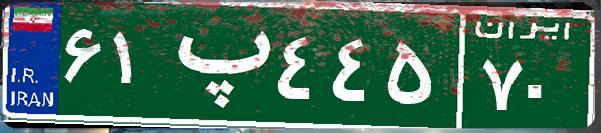0: (525, 38, 570, 115)
1: (110, 28, 158, 105)
4: (273, 28, 330, 110), (330, 28, 385, 110)
5: (385, 28, 445, 110)
6: (57, 26, 110, 107)
7: (475, 38, 525, 113)
پ: (158, 15, 273, 115)
